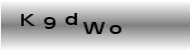9: (42, 16, 57, 30)
K: (19, 13, 36, 27)
W: (82, 19, 106, 36)
d: (63, 12, 79, 26)
o: (108, 24, 122, 35)
